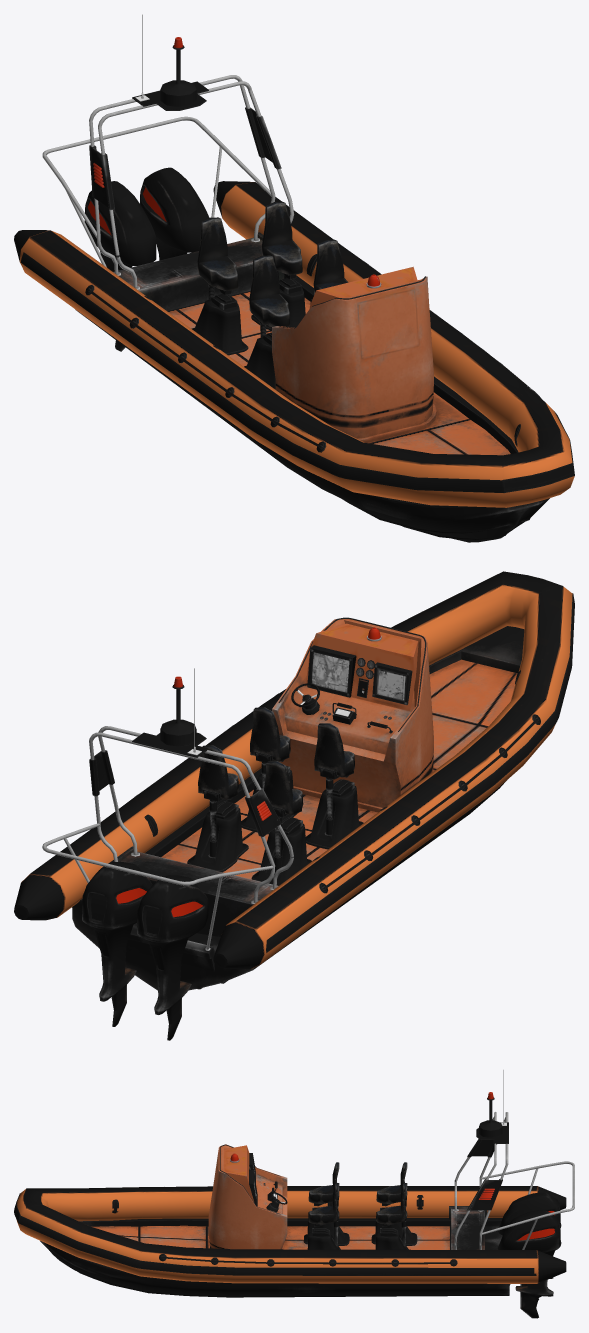
The model's file is zodiac_boat.FBX.
3 renders of one model, top to bottom at view 1: azimuth 30°, elevation 25°; view 2: azimuth 150°, elevation 25°; view 3: azimuth 270°, elevation 25°, orthographic. The views are drawn at different scales.
Visible parts, largest first — view 1: zodiac_boat_lod_2; view 2: zodiac_boat_lod_2; view 3: zodiac_boat_lod_2.
Part boxes in pixels (left/top/right/bottom): zodiac_boat_lod_2: left=14, top=14, right=574, bottom=542; zodiac_boat_lod_2: left=14, top=571, right=574, bottom=1040; zodiac_boat_lod_2: left=14, top=1070, right=574, bottom=1318.
Bounding box in the file's own units: 246 × 745 × 339.
